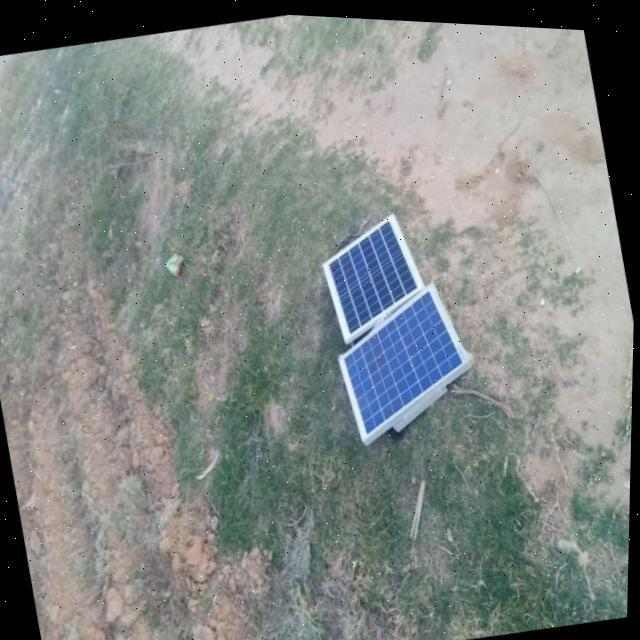Normal Solar Panel: (327, 270, 484, 444), (316, 202, 434, 342)
